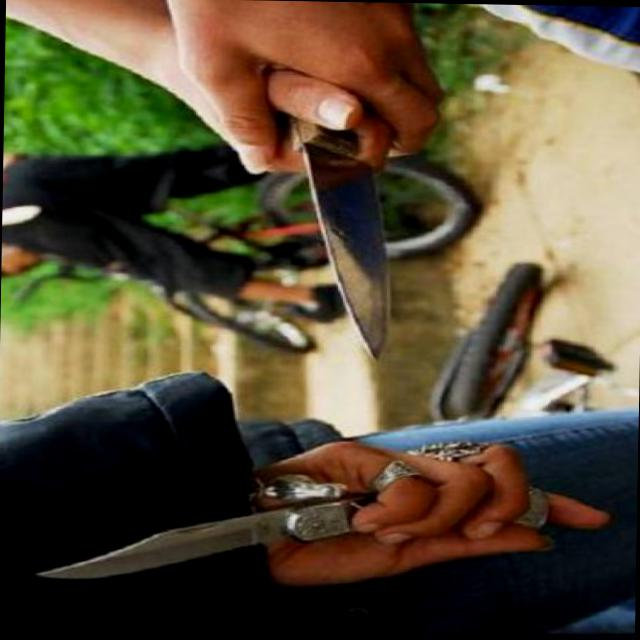knife: (26, 449, 486, 597)
